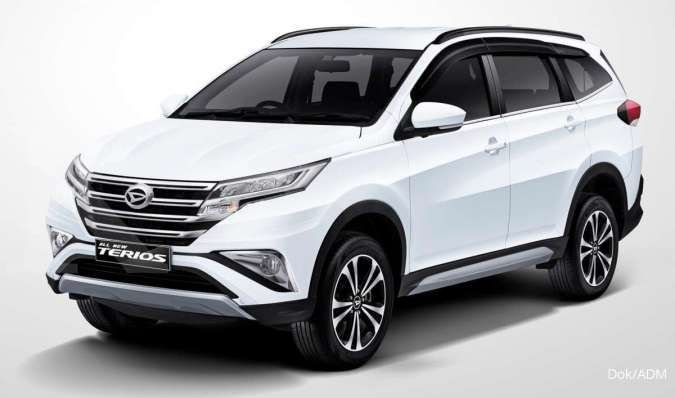mobil: (41, 16, 647, 374)
